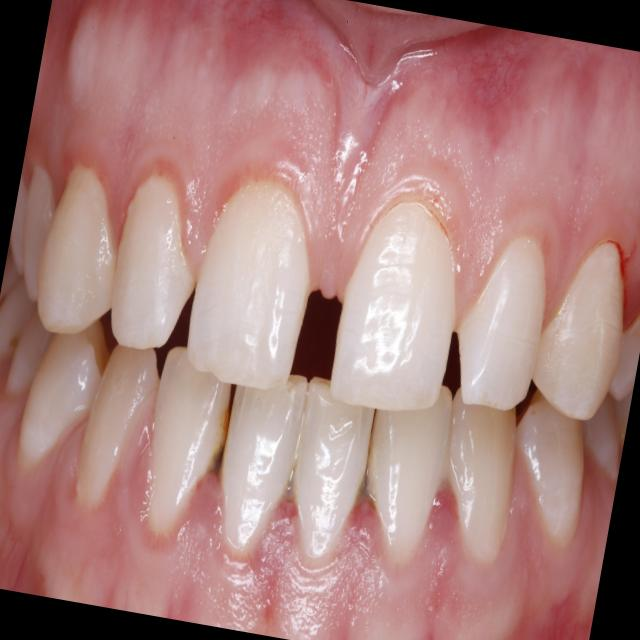Tooth: (186, 180, 310, 391), (329, 202, 454, 409), (532, 240, 624, 419), (459, 236, 546, 411), (220, 374, 307, 547), (366, 384, 452, 559), (110, 172, 194, 348), (152, 346, 231, 530), (294, 376, 374, 556), (36, 168, 117, 334), (19, 319, 110, 464), (79, 344, 160, 504), (448, 387, 516, 562), (515, 388, 583, 547), (23, 167, 55, 300), (5, 309, 54, 395), (582, 391, 618, 478), (0, 274, 37, 355), (608, 310, 640, 401)
